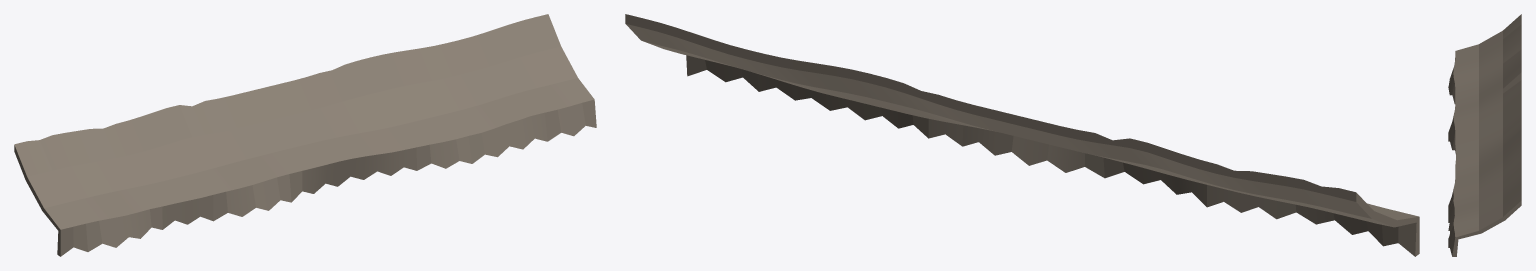
File: SM_Bld_Sunshade_01.obj
The picture shows the model from 3 angles, left to right: view 1: azimuth 30°, elevation 25°; view 2: azimuth 150°, elevation 25°; view 3: azimuth 270°, elevation 25°; orthographic projection. The views are drawn at different scales.
Parts seen in each view (by area): view 1: SM_Bld_Sunshade_01_0; view 2: SM_Bld_Sunshade_01_0; view 3: SM_Bld_Sunshade_01_0.
Boxes of the visible parts, x1,y1,x2,y2 form: SM_Bld_Sunshade_01_0: (14, 14, 596, 256); SM_Bld_Sunshade_01_0: (625, 14, 1419, 256); SM_Bld_Sunshade_01_0: (1448, 14, 1521, 256).
Bounding box in the file's own units: 6.56 × 0.9594 × 1.09.
Materials: 1 (1 with a texture image).
